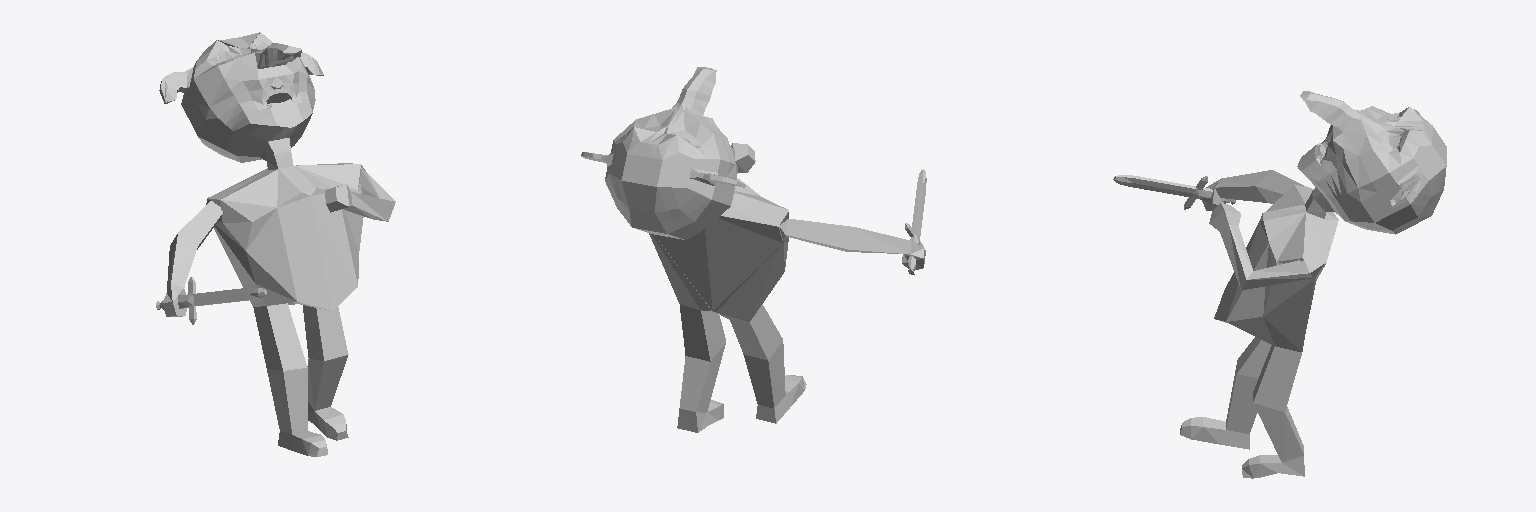
Rendered from andrzejDying_000056.obj.
The picture shows the model from 3 angles: view 1: azimuth 30°, elevation 25°; view 2: azimuth 150°, elevation 25°; view 3: azimuth 270°, elevation 25°; orthographic projection.
Visible parts, largest first — view 1: Cube; view 2: Cube; view 3: Cube.
Part boxes in pixels (bbox=[...]): Cube: bbox=[156, 32, 395, 456]; Cube: bbox=[581, 67, 926, 432]; Cube: bbox=[1113, 91, 1446, 478].
Bounding box in the file's own units: 6.37 × 9.1 × 7.37.